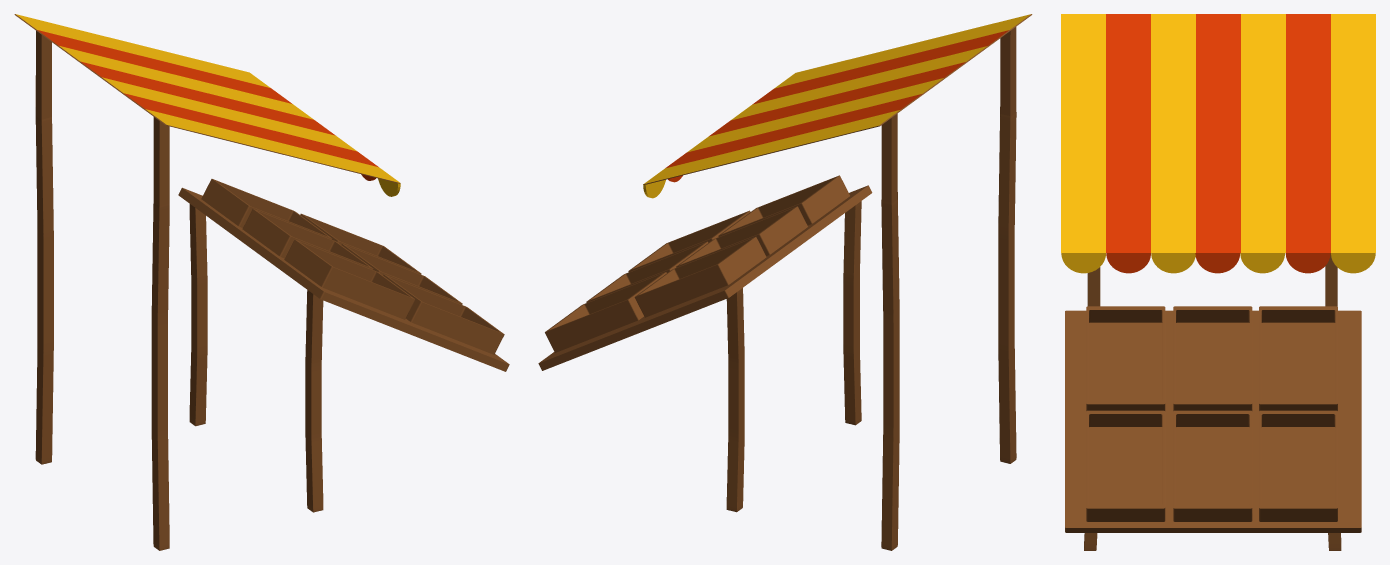
Rendered from FoodDisplay.fbx.
3 views of the same model, side by side, from view 1: azimuth 30°, elevation 25°; view 2: azimuth 150°, elevation 25°; view 3: azimuth 270°, elevation 25° (orthographic). The views are drawn at different scales.
Parts seen in each view (by area): view 1: Cube; view 2: Cube; view 3: Cube.
Part boxes in pixels (box(x1,y1,x2,y2)): Cube: box(14, 14, 509, 550); Cube: box(538, 14, 1032, 550); Cube: box(1061, 14, 1375, 550).
Size of the model in its own units: 88.7 by 105 by 66.13.
